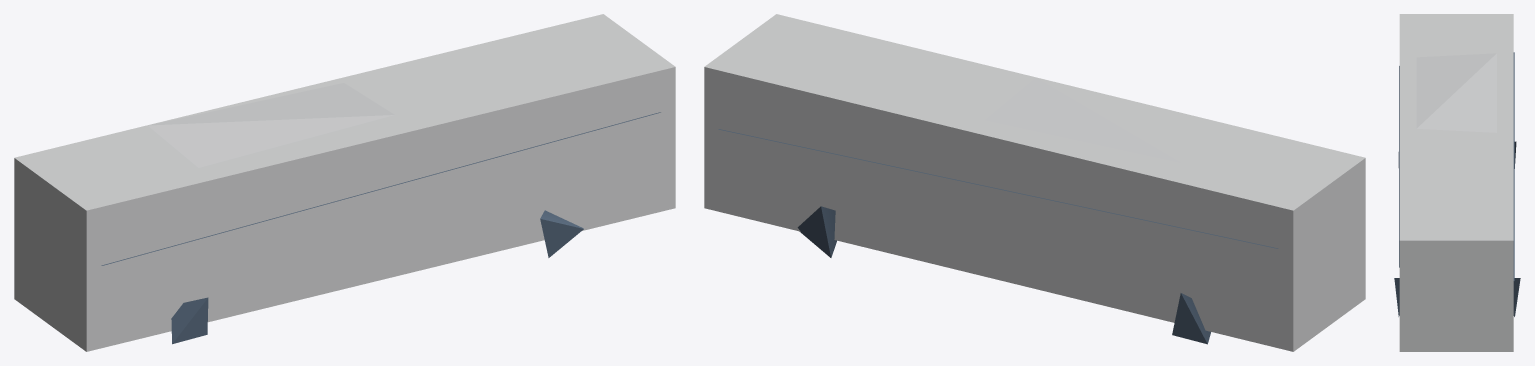
The model's file is bus_lod1.glb.
The picture shows the model from 3 angles, left to right: view 1: azimuth 30°, elevation 25°; view 2: azimuth 150°, elevation 25°; view 3: azimuth 270°, elevation 25°; orthographic projection. The views are drawn at different scales.
Visible parts, largest first — view 1: bus_lod1; view 2: bus_lod1; view 3: bus_lod1.
Part boxes in pixels (x1=…): bus_lod1: x1=14, y1=14, x2=675, y2=351; bus_lod1: x1=704, y1=14, x2=1365, y2=351; bus_lod1: x1=1394, y1=14, x2=1520, y2=351.
Bounding box in the file's own units: 12 × 3.31 × 2.83.
